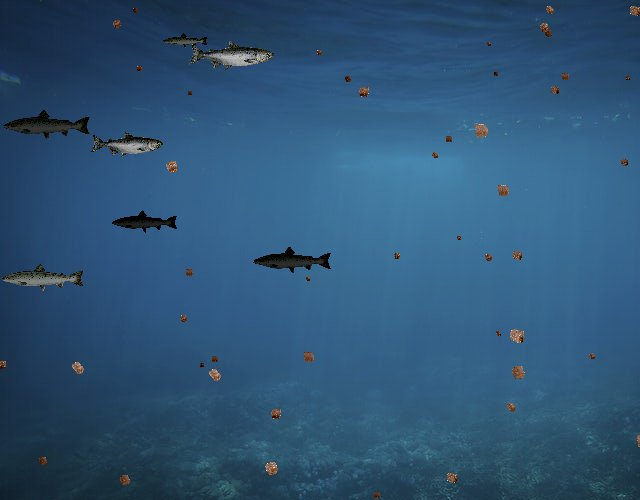Fish: (2, 108, 92, 141), (0, 262, 86, 293), (188, 40, 274, 71), (253, 245, 334, 274), (90, 132, 163, 158), (112, 210, 180, 234), (163, 32, 210, 49)
Pellet: (467, 116, 495, 144), (491, 179, 515, 203), (501, 397, 521, 417), (534, 17, 554, 37), (369, 488, 384, 500), (313, 46, 326, 59), (454, 232, 464, 242)
